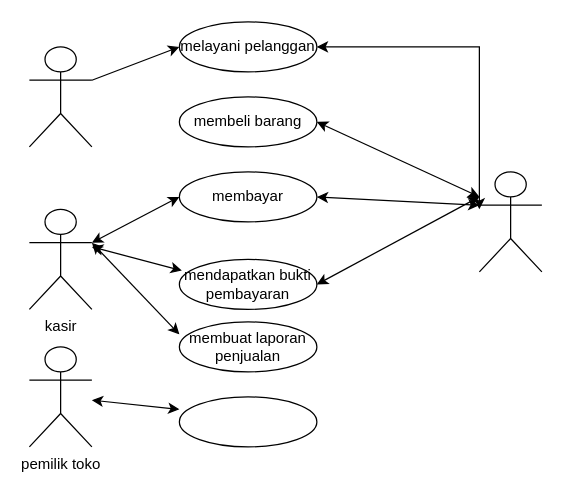
This 568x495 diagram has some shape labels left out. Each missing label, with the box of its shape:
menerima laporan: (178, 396, 317, 447)
pelanggan: (478, 171, 542, 272)
sales: (28, 46, 92, 147)
